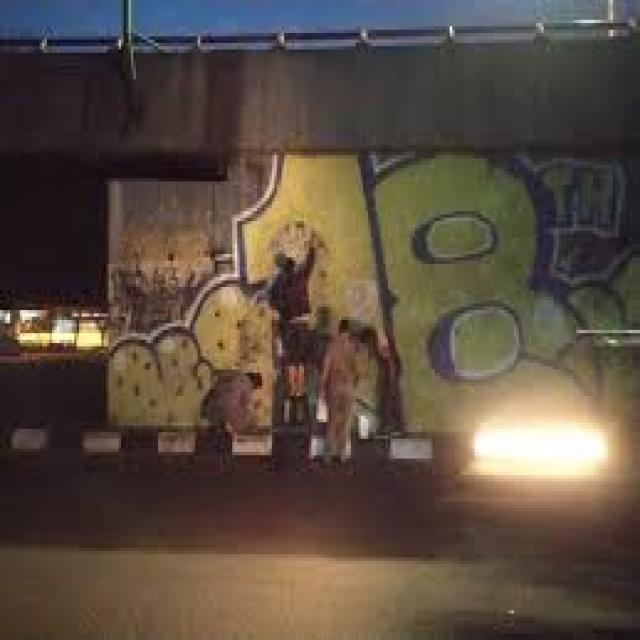-: (110, 152, 640, 424)
